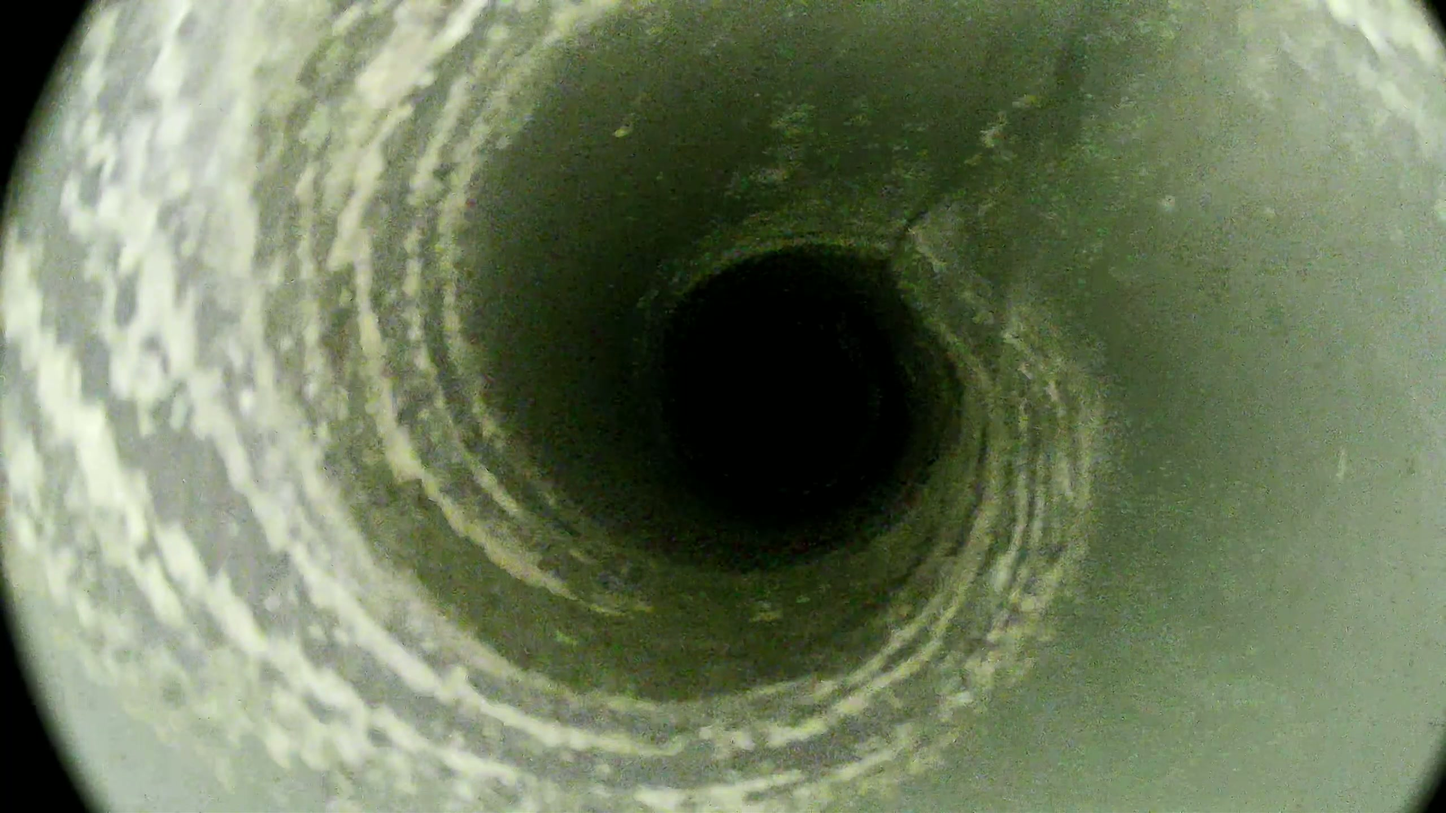hole: (683, 311, 868, 493)
